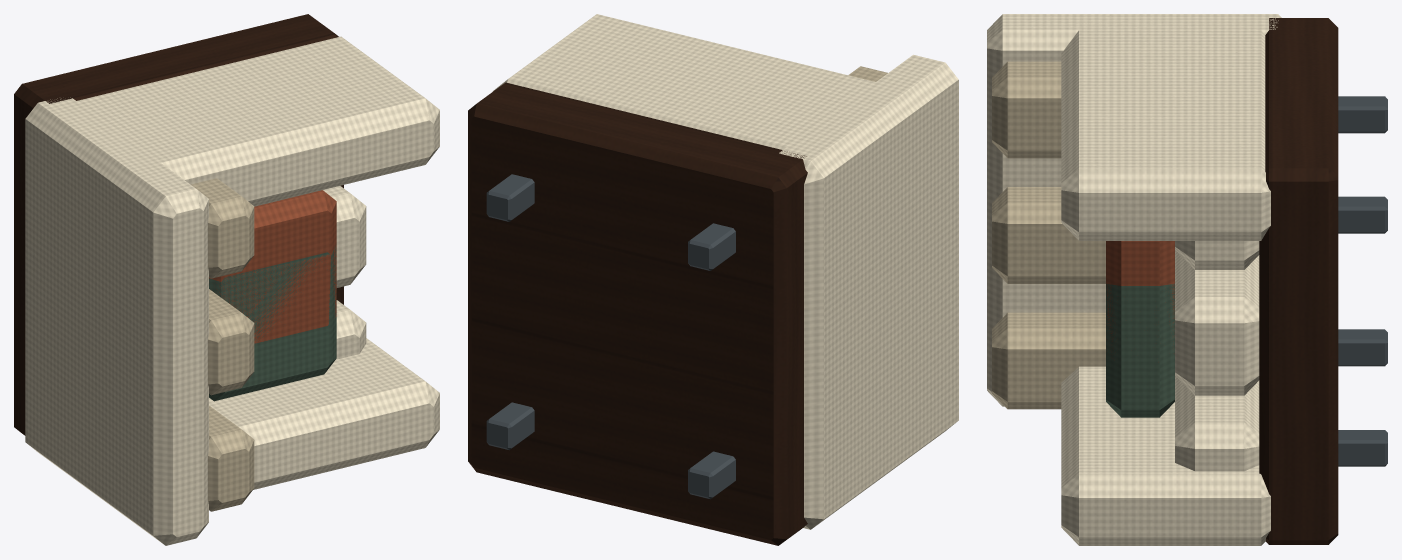
Rendered from terrace_armchair.obj.
3 views of the same model, side by side, from view 1: azimuth 30°, elevation 25°; view 2: azimuth 150°, elevation 25°; view 3: azimuth 270°, elevation 25° (orthographic). The views are drawn at different scales.
Visible parts, largest first — view 1: terrace_armchair_linen, terrace_armchair_walnut, terrace_armchair_fabric, terrace_armchair_clay, terrace_armchair_sage; view 2: terrace_armchair_walnut, terrace_armchair_linen, terrace_armchair_metal; view 3: terrace_armchair_linen, terrace_armchair_walnut, terrace_armchair_fabric, terrace_armchair_sage, terrace_armchair_metal, terrace_armchair_clay.
Boxes of the visible parts, <box> form: terrace_armchair_linen: <box>25,36,439,545</box>; terrace_armchair_walnut: <box>14,14,343,435</box>; terrace_armchair_fabric: <box>191,178,254,511</box>; terrace_armchair_clay: <box>209,190,336,343</box>; terrace_armchair_sage: <box>209,245,336,401</box>; terrace_armchair_walnut: <box>468,82,807,545</box>; terrace_armchair_linen: <box>493,14,958,529</box>; terrace_armchair_metal: <box>486,174,735,499</box>; terrace_armchair_linen: <box>987,14,1281,545</box>; terrace_armchair_walnut: <box>1259,18,1338,544</box>; terrace_armchair_fabric: <box>992,61,1105,409</box>; terrace_armchair_sage: <box>1106,283,1174,417</box>; terrace_armchair_metal: <box>1338,96,1387,466</box>; terrace_armchair_clay: <box>1106,241,1174,362</box>.
Bounding box in the file's own units: 40.5 × 42 × 40.5.
6 materials, 6 textured.
